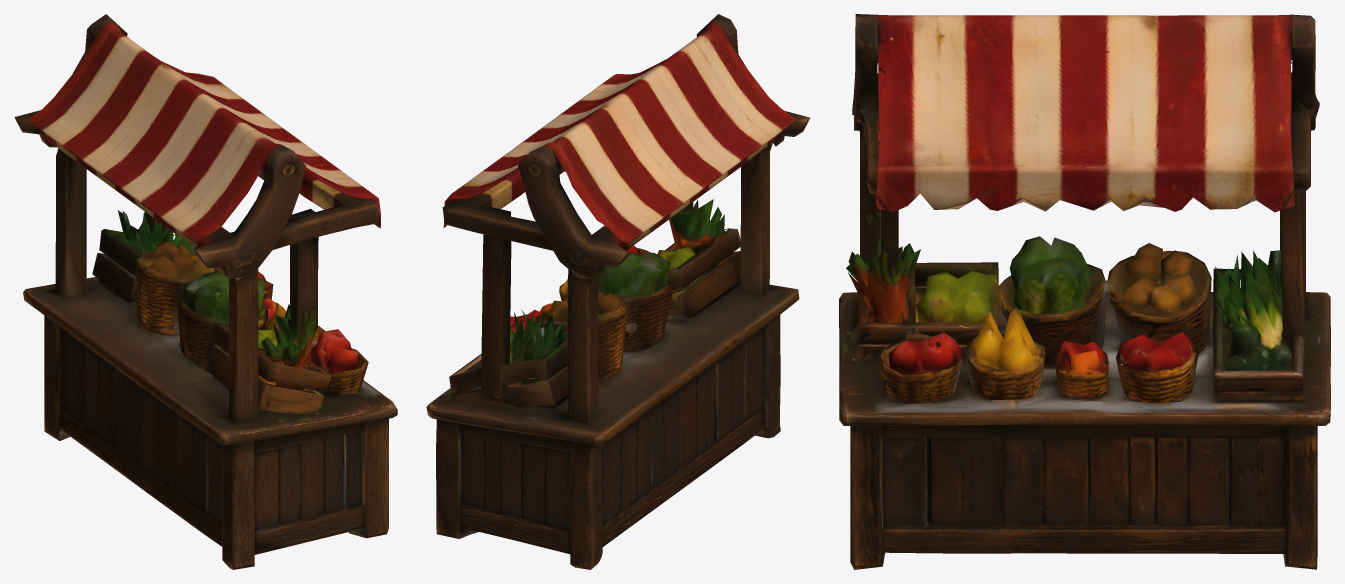
File: stall.glb
3 views of the same model, side by side, from view 1: azimuth 30°, elevation 25°; view 2: azimuth 150°, elevation 25°; view 3: azimuth 270°, elevation 25° (orthographic). The views are drawn at different scales.
Parts seen in each view (by area): view 1: tripo_node_d900478c-1eac-4563-95e6-8e87f1c1ec18; view 2: tripo_node_d900478c-1eac-4563-95e6-8e87f1c1ec18; view 3: tripo_node_d900478c-1eac-4563-95e6-8e87f1c1ec18.
Part boxes in pixels (x1,y1,x2,y2): tripo_node_d900478c-1eac-4563-95e6-8e87f1c1ec18: [14, 14, 397, 569]; tripo_node_d900478c-1eac-4563-95e6-8e87f1c1ec18: [426, 14, 810, 569]; tripo_node_d900478c-1eac-4563-95e6-8e87f1c1ec18: [839, 14, 1330, 569].
Size of the model in its own units: 0.4989 by 1 by 0.8973.
Materials: 1 (1 with a texture image).
